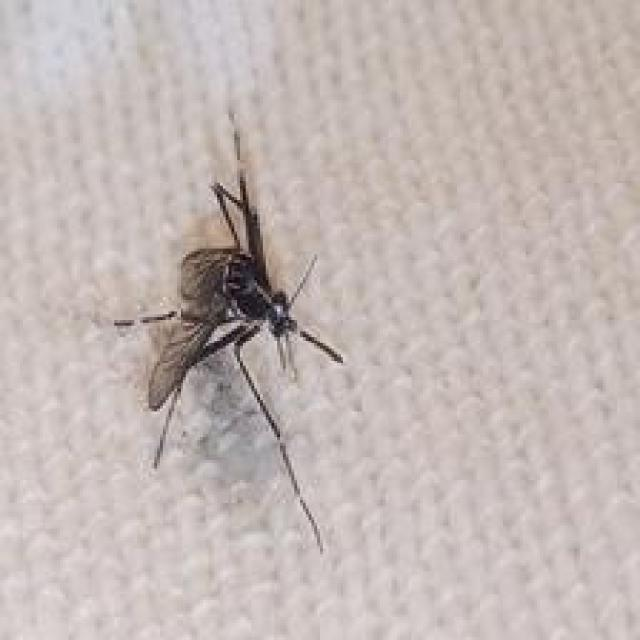Aedes albopictus: (107, 109, 347, 554)
